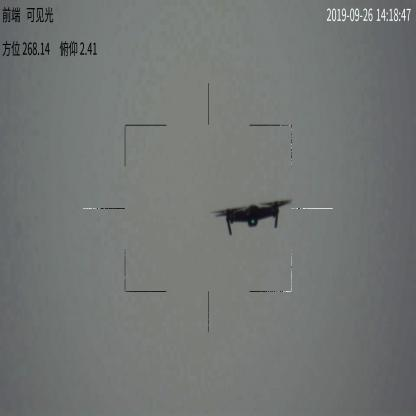uav: (212, 195, 292, 236)
